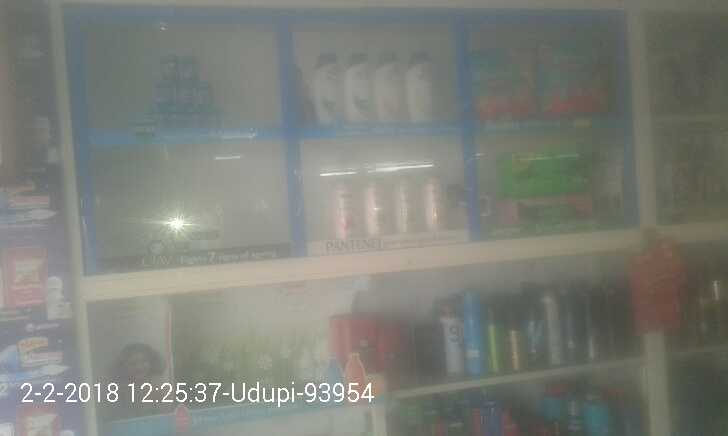beauty: (342, 47, 375, 131), (407, 45, 437, 126), (313, 48, 341, 128), (378, 51, 407, 126), (385, 169, 415, 232), (326, 177, 357, 236), (421, 175, 451, 232), (357, 173, 381, 236)
pharmacy: (536, 41, 611, 114), (501, 144, 593, 191), (465, 50, 518, 120), (503, 194, 596, 224), (151, 83, 181, 112), (191, 81, 213, 110), (179, 52, 199, 80), (155, 52, 173, 81), (176, 80, 193, 109)
